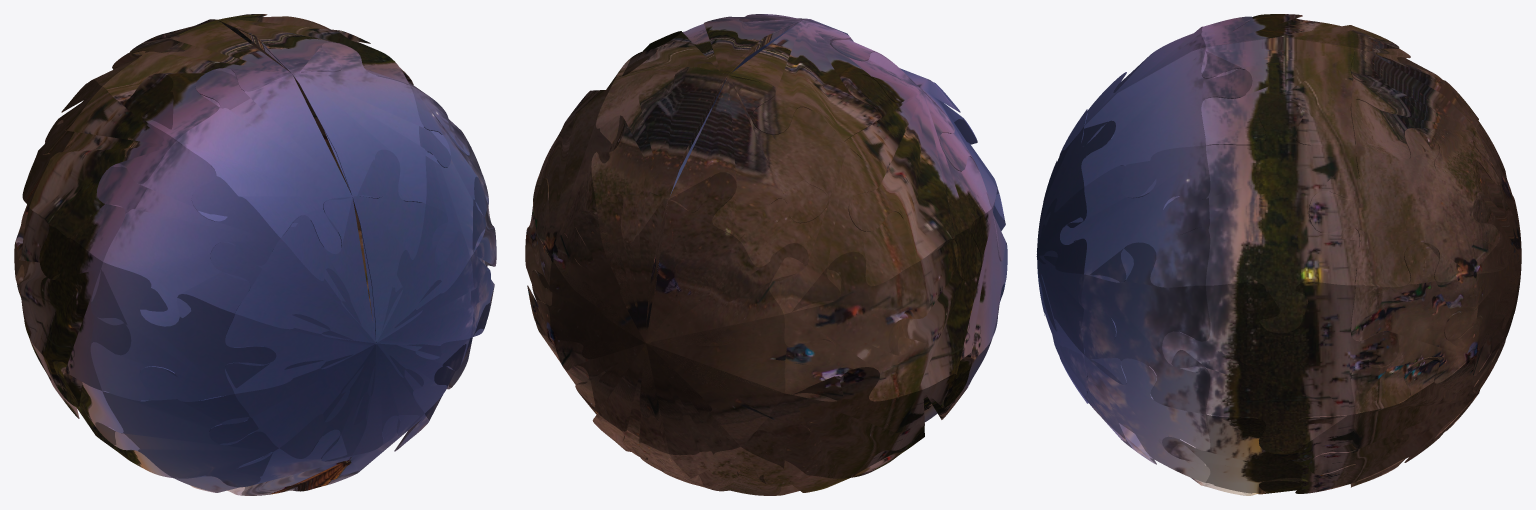
File: easy-puzzle-v2.fbx
3 renders of one model, left to right at view 1: azimuth 30°, elevation 25°; view 2: azimuth 150°, elevation 25°; view 3: azimuth 270°, elevation 25°, orthographic.
Visible parts, largest first — view 1: Puzzle-Easy.041, Puzzle-Easy.075, Puzzle-Easy.006, Puzzle-Easy.074, Puzzle-Easy.070, Puzzle-Easy.072, Puzzle-Easy.076, Puzzle-Easy.067, Puzzle-Easy.005, Puzzle-Easy.054, Puzzle-Easy.077, Puzzle-Easy.064 (+6 smaller); view 2: Puzzle-Easy.001, Puzzle-Easy.073, Puzzle-Easy.074, Puzzle-Easy.071, Puzzle-Easy.004, Puzzle-Easy.078, Puzzle-Easy.072, Puzzle-Easy.068, Puzzle-Easy.005, Puzzle-Easy.052, Puzzle-Easy.077, Puzzle-Easy.065 (+8 smaller); view 3: Puzzle-Easy.053, Puzzle-Easy.055, Puzzle-Easy.052, Puzzle-Easy.054, Puzzle-Easy.077, Puzzle-Easy.056, Puzzle-Easy.057, Puzzle-Easy.076, Puzzle-Easy.060, Puzzle-Easy.041, Puzzle-Easy.078, Puzzle-Easy.058 (+6 smaller).
Boxes of the visible parts, x1,y1,x2,y2 form: Puzzle-Easy.041: [209, 149, 489, 461]; Puzzle-Easy.075: [103, 140, 280, 326]; Puzzle-Easy.006: [177, 68, 352, 254]; Puzzle-Easy.074: [29, 73, 176, 279]; Puzzle-Easy.070: [90, 262, 276, 401]; Puzzle-Easy.072: [14, 208, 131, 406]; Puzzle-Easy.076: [293, 42, 450, 203]; Puzzle-Easy.067: [95, 366, 278, 487]; Puzzle-Easy.005: [102, 19, 292, 140]; Puzzle-Easy.054: [410, 85, 488, 264]; Puzzle-Easy.077: [219, 14, 409, 84]; Puzzle-Easy.064: [174, 429, 359, 495]; Puzzle-Easy.001: [532, 172, 836, 475]; Puzzle-Easy.073: [739, 142, 916, 314]; Puzzle-Easy.074: [844, 74, 991, 280]; Puzzle-Easy.071: [784, 251, 928, 401]; Puzzle-Easy.004: [668, 75, 843, 239]; Puzzle-Easy.078: [591, 66, 727, 243]; Puzzle-Easy.072: [888, 208, 1007, 407]; Puzzle-Easy.068: [741, 367, 924, 483]; Puzzle-Easy.005: [728, 19, 918, 141]; Puzzle-Easy.052: [533, 87, 625, 266]; Puzzle-Easy.077: [611, 14, 801, 104]; Puzzle-Easy.065: [661, 447, 845, 495]; Puzzle-Easy.053: [1163, 100, 1360, 333]; Puzzle-Easy.055: [1162, 282, 1399, 453]; Puzzle-Easy.052: [1308, 128, 1499, 287]; Puzzle-Easy.054: [1060, 145, 1210, 287]; Puzzle-Easy.077: [1201, 37, 1399, 145]; Puzzle-Easy.056: [1081, 242, 1210, 414]; Puzzle-Easy.057: [1350, 242, 1478, 413]; Puzzle-Easy.076: [1081, 47, 1252, 198]; Puzzle-Easy.060: [1162, 414, 1360, 493]; Puzzle-Easy.041: [1036, 109, 1116, 396]; Puzzle-Easy.078: [1350, 48, 1499, 187]; Puzzle-Easy.058: [1060, 345, 1210, 482].
Bounding box in the file's own units: 1389 × 1398 × 1401.
